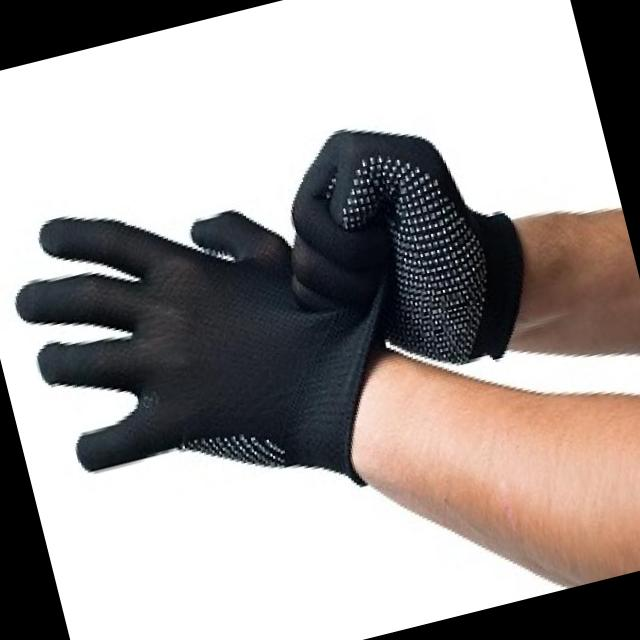Gloves: (0, 137, 391, 549), (252, 66, 554, 412)
